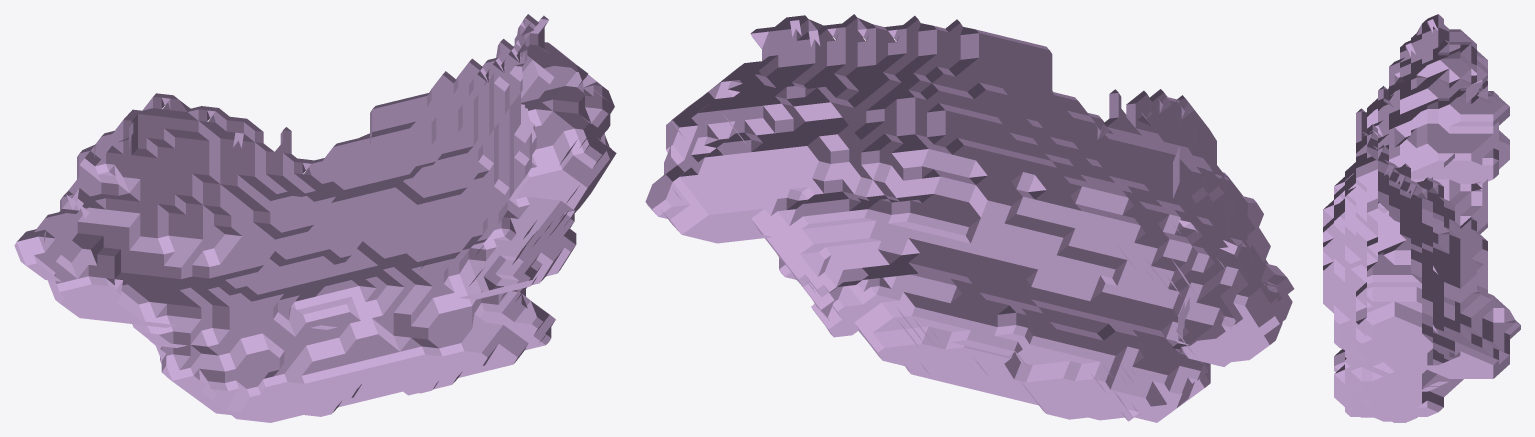
The model's file is region_0028_CPop__supraoptic_commissure_.glb.
The picture shows the model from 3 angles, left to right: view 1: azimuth 30°, elevation 25°; view 2: azimuth 150°, elevation 25°; view 3: azimuth 270°, elevation 25°; orthographic projection. The views are drawn at different scales.
Parts seen in each view (by area): view 1: world; view 2: world; view 3: world.
Part boxes in pixels (x1,y1,x2,y2): world: (14, 14, 616, 422); world: (645, 14, 1294, 422); world: (1323, 14, 1520, 422).
Size of the model in its own units: 0.416 by 0.224 by 0.144.
